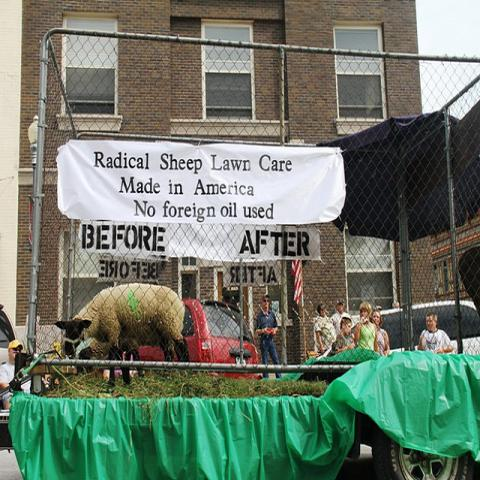car: (114, 298, 264, 379), (379, 298, 479, 353), (0, 306, 16, 366)
truck: (2, 29, 480, 475)
